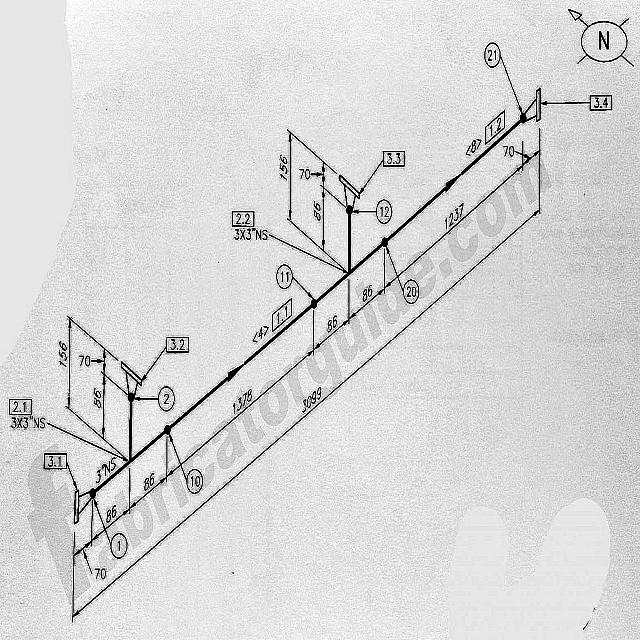Item number: (484, 106, 507, 147), (272, 296, 294, 334), (381, 149, 406, 169), (590, 93, 615, 113), (43, 451, 68, 471), (165, 335, 190, 355), (231, 209, 254, 229), (8, 397, 32, 416)
Measrement: (78, 203, 542, 623), (167, 341, 313, 479), (388, 156, 524, 287), (274, 113, 300, 225), (129, 460, 169, 517), (72, 539, 115, 591), (89, 498, 130, 551), (347, 272, 385, 324), (57, 311, 75, 415), (313, 308, 351, 355), (91, 369, 112, 449), (76, 336, 114, 378), (310, 182, 331, 255), (499, 141, 544, 168), (299, 159, 326, 184)
Pipeline: (95, 106, 525, 502)
Symbol: (276, 167, 389, 358), (92, 339, 164, 539), (339, 172, 363, 218), (122, 359, 146, 404), (520, 85, 544, 126), (73, 486, 97, 526), (227, 360, 245, 387), (444, 170, 461, 197)
Weld number: (110, 531, 128, 561), (402, 277, 420, 307), (484, 40, 502, 70), (157, 385, 176, 413), (276, 261, 293, 291), (375, 197, 392, 225), (187, 467, 203, 496)
other: (8, 417, 44, 432), (233, 228, 270, 242)
